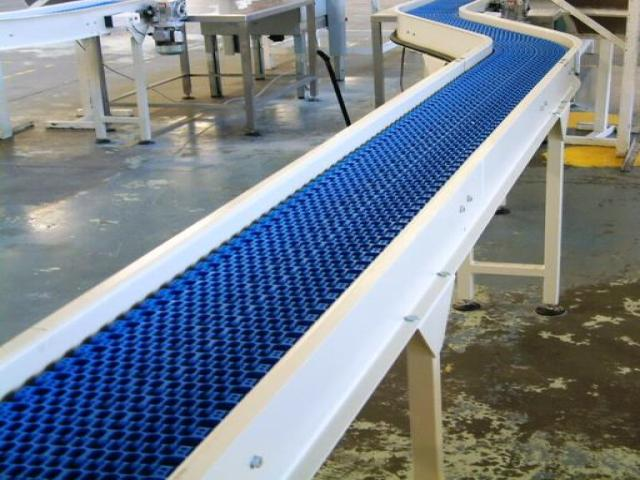conveyor: (0, 0, 589, 479)
